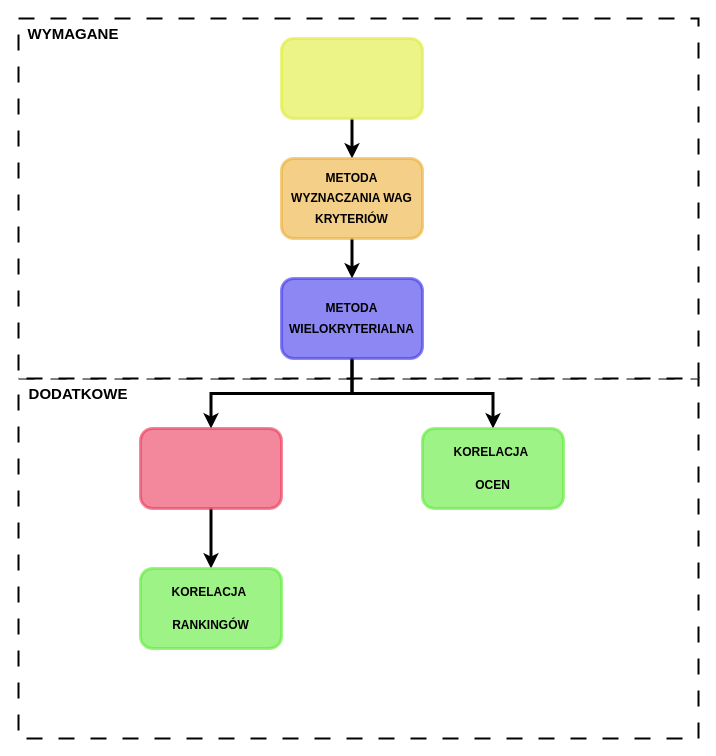
Image size: 716x756. Some labels were removed from this diagram. Each missing label, with the box of its shape:
MACIERZ DECYZYJNA: (280, 36, 424, 120)
RANKING OCEN: (138, 426, 282, 510)
